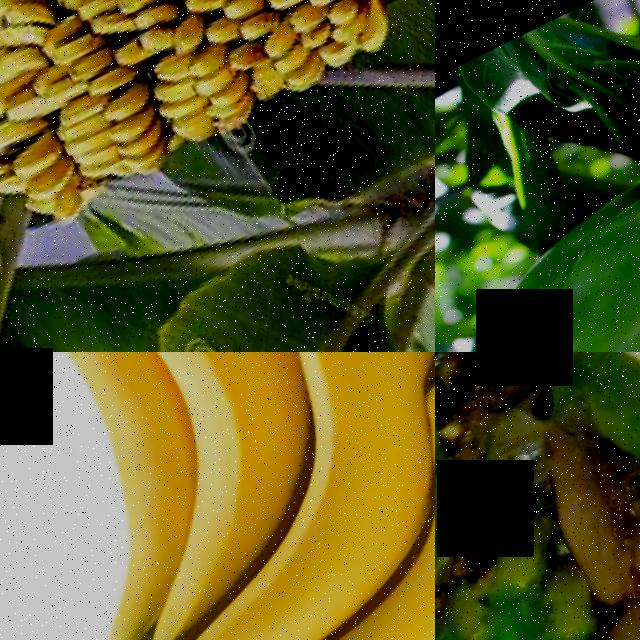asparagus: (592, 352, 640, 640)
banana: (0, 352, 435, 640), (0, 0, 183, 270), (131, 29, 275, 184), (43, 0, 203, 94), (203, 0, 321, 121), (193, 0, 359, 82), (256, 0, 435, 56)
bell pepper: (435, 34, 640, 352)
